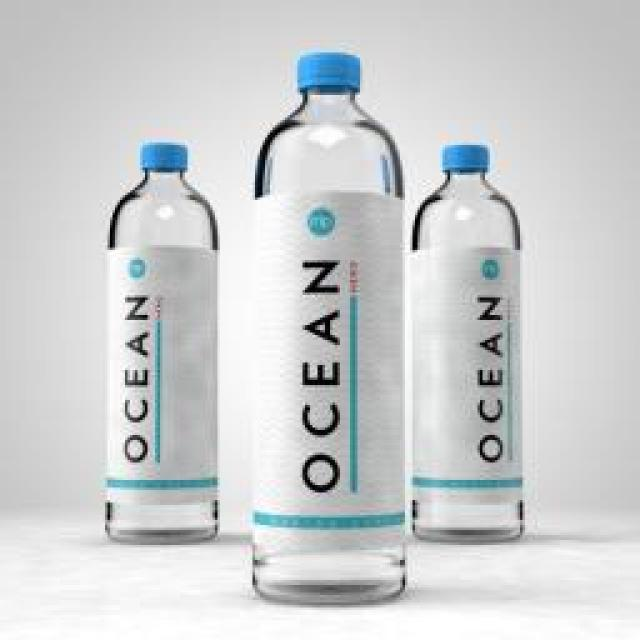bottle: (249, 54, 414, 606), (102, 145, 223, 543), (410, 142, 527, 543)
